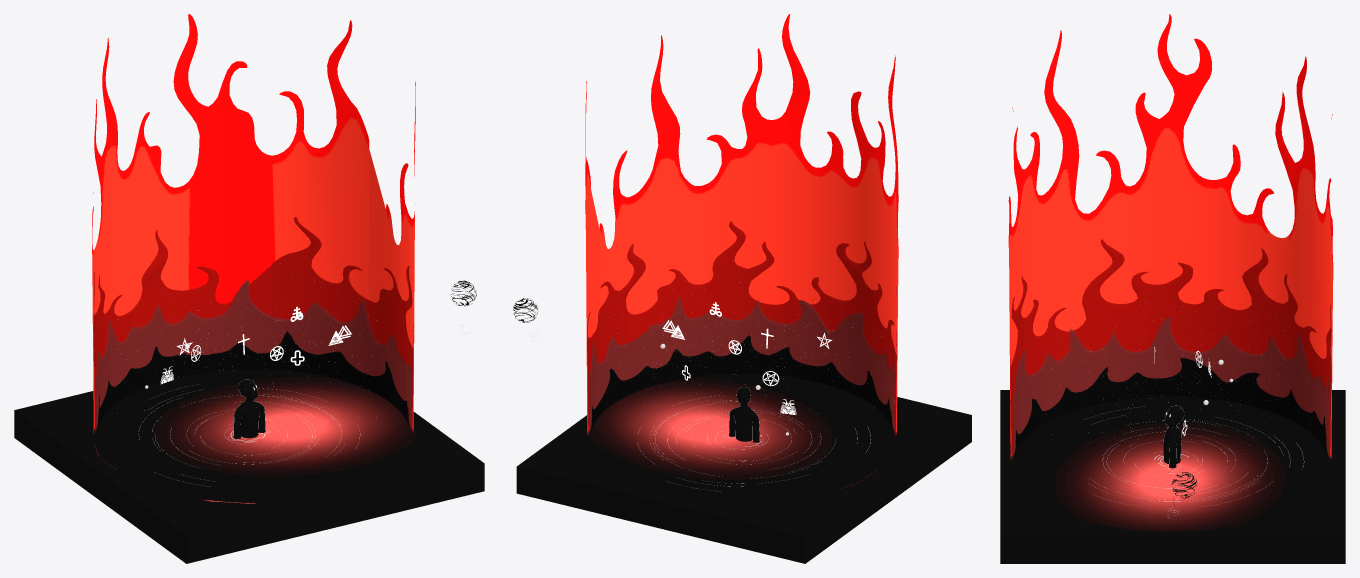
File: RoadMap.glb
3 views of the same model, side by side, from view 1: azimuth 30°, elevation 25°; view 2: azimuth 150°, elevation 25°; view 3: azimuth 270°, elevation 25° (orthographic). The views are drawn at different scales.
Visible parts, largest first — view 1: Flame1:pCube5, pCube9, Cube_Material.001_0, body_Material.001_0; view 2: Flame1:pCube5, pCube9, Cube_Material.001_0, body_Material.001_0; view 3: Flame1:pCube5, pCube9, Cube_Material.001_0, body_Material.001_0.
Boxes of the visible parts, bbox=[...] form: Flame1:pCube5: bbox=[92, 14, 415, 476]; pCube9: bbox=[90, 369, 417, 503]; Cube_Material.001_0: bbox=[14, 391, 484, 563]; body_Material.001_0: bbox=[233, 379, 265, 438]; Flame1:pCube5: bbox=[585, 14, 898, 475]; pCube9: bbox=[583, 373, 899, 504]; Cube_Material.001_0: bbox=[516, 397, 971, 563]; body_Material.001_0: bbox=[729, 387, 759, 442]; Flame1:pCube5: bbox=[1008, 14, 1333, 519]; pCube9: bbox=[1010, 396, 1332, 531]; Cube_Material.001_0: bbox=[1000, 390, 1345, 563]; body_Material.001_0: bbox=[1163, 406, 1184, 468].
Bounding box in the file's own units: 301 × 310 × 236.
Materials: 5 (2 with a texture image).
